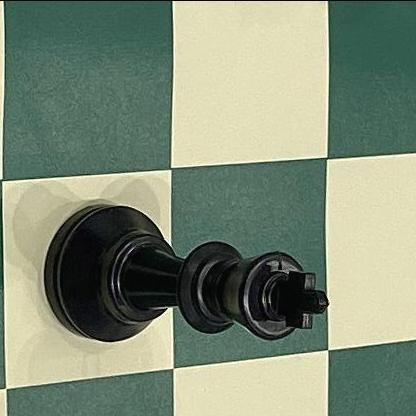black-king: (34, 189, 344, 363)
